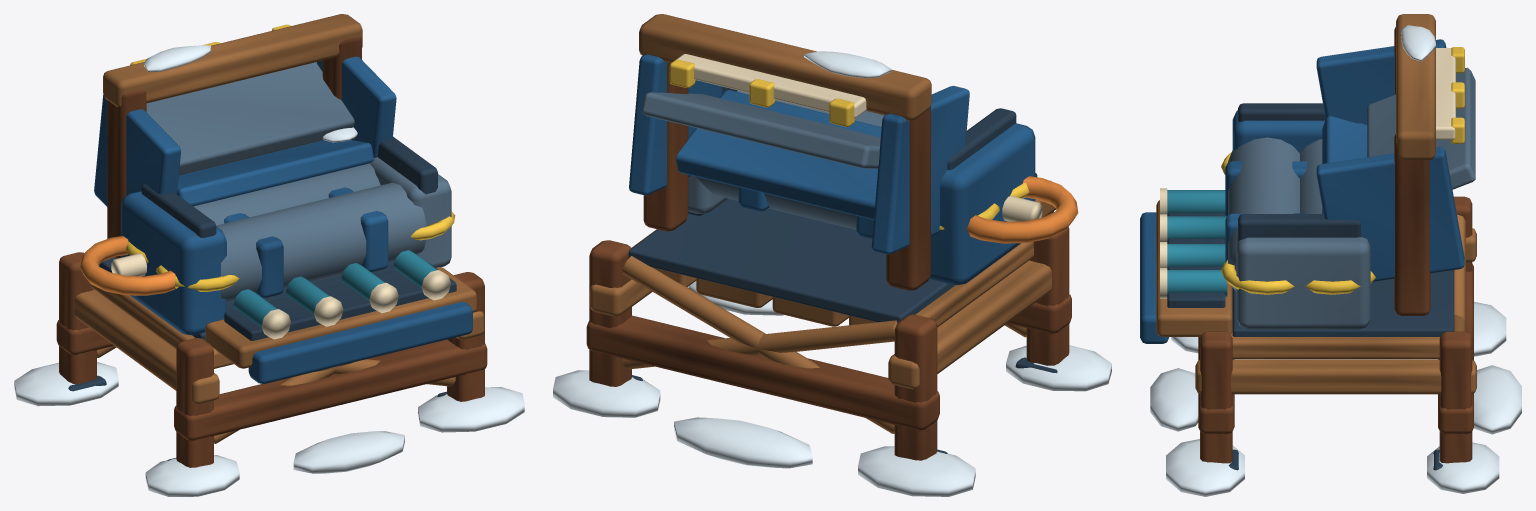
The model's file is intake_machine.glb.
3 renders of one model, left to right at view 1: azimuth 30°, elevation 25°; view 2: azimuth 150°, elevation 25°; view 3: azimuth 270°, elevation 25°, orthographic. The views are drawn at different scales.
Visible parts, largest first — view 1: intake_machine; view 2: intake_machine; view 3: intake_machine.
Part boxes in pixels (box(x1,y1,x2,y2)): intake_machine: box(14, 14, 524, 496); intake_machine: box(553, 14, 1111, 496); intake_machine: box(1140, 14, 1521, 496).
Bounding box in the file's own units: 2.51 × 2.12 × 2.1.
